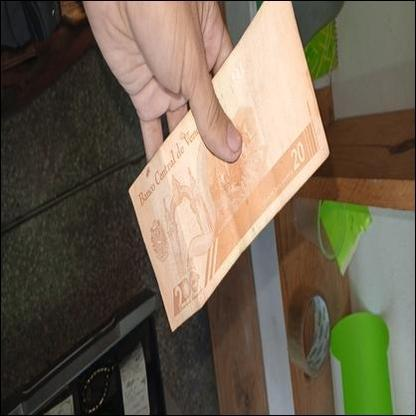twenty-back-vef: (127, 0, 330, 332)
